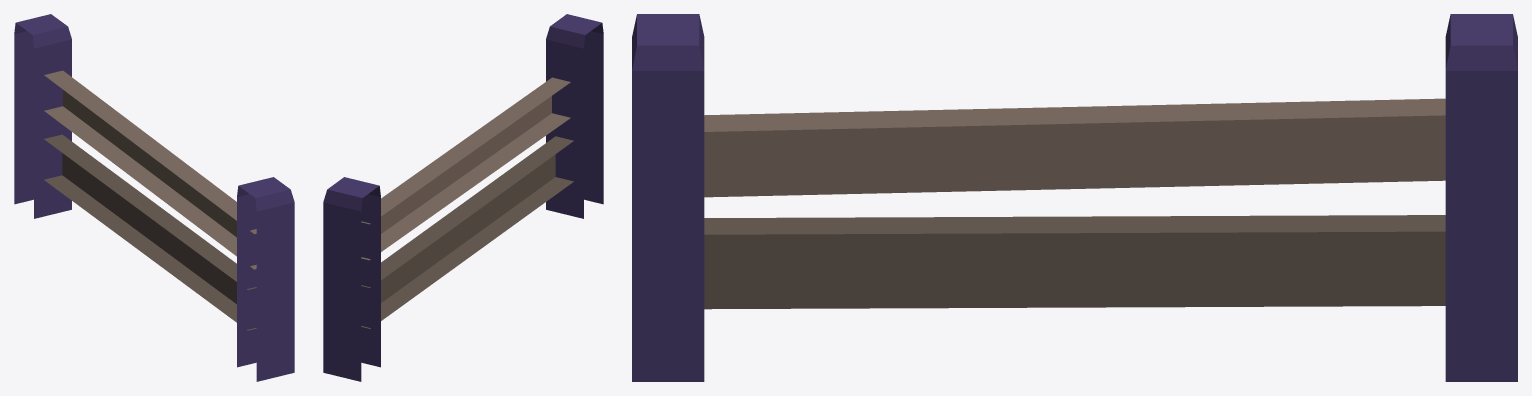
File: normal2.fbx
The picture shows the model from 3 angles, left to right: view 1: azimuth 30°, elevation 25°; view 2: azimuth 150°, elevation 25°; view 3: azimuth 270°, elevation 25°; orthographic projection. The views are drawn at different scales.
Parts seen in each view (by area): view 1: Cube, Cube.003, Cube.002, Cube.001; view 2: Cube.001, Cube.003, Cube.002, Cube; view 3: Cube.003, Cube.002, Cube, Cube.001.
Part boxes in pixels (x1=…): Cube: x1=237, y1=177, x2=294, y2=381; Cube.003: x1=44, y1=134, x2=256, y2=330; Cube.002: x1=44, y1=70, x2=256, y2=269; Cube.001: x1=14, y1=14, x2=71, y2=218; Cube.001: x1=323, y1=177, x2=380, y2=381; Cube.003: x1=361, y1=136, x2=573, y2=328; Cube.002: x1=361, y1=77, x2=570, y2=260; Cube: x1=546, y1=14, x2=603, y2=218; Cube.003: x1=704, y1=215, x2=1445, y2=309; Cube.002: x1=704, y1=98, x2=1445, y2=197; Cube: x1=632, y1=14, x2=704, y2=381; Cube.001: x1=1445, y1=14, x2=1517, y2=381.
Size of the model in its own units: 43.56 by 200 by 481.
